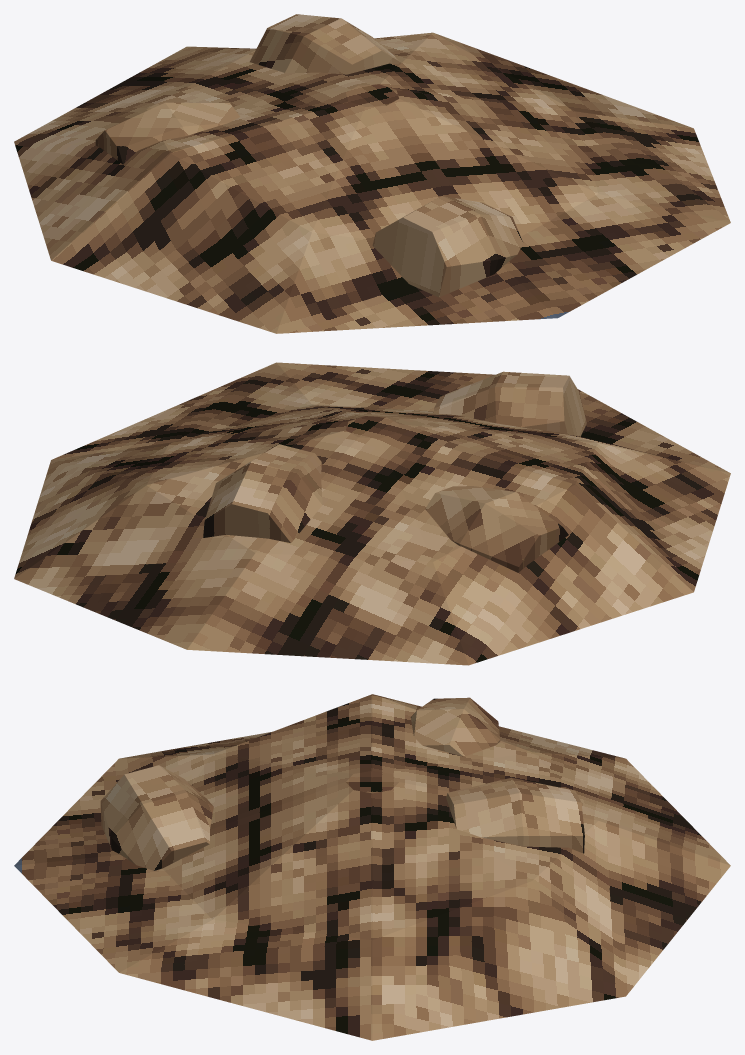
File: potato_barrel_fillter.glb
3 renders of one model, top to bottom at view 1: azimuth 30°, elevation 25°; view 2: azimuth 150°, elevation 25°; view 3: azimuth 270°, elevation 25°, orthographic. The views are drawn at different scales.
Visible parts, largest first — view 1: potato_barrel_fillter; view 2: potato_barrel_fillter; view 3: potato_barrel_fillter.
Part boxes in pixels (<box>): potato_barrel_fillter: <box>14,14,730,333</box>; potato_barrel_fillter: <box>14,362,730,665</box>; potato_barrel_fillter: <box>14,694,730,1040</box>.
Bounding box in the file's own units: 0.7858 × 0.1702 × 0.7858.
Materials: 1 (1 with a texture image).
